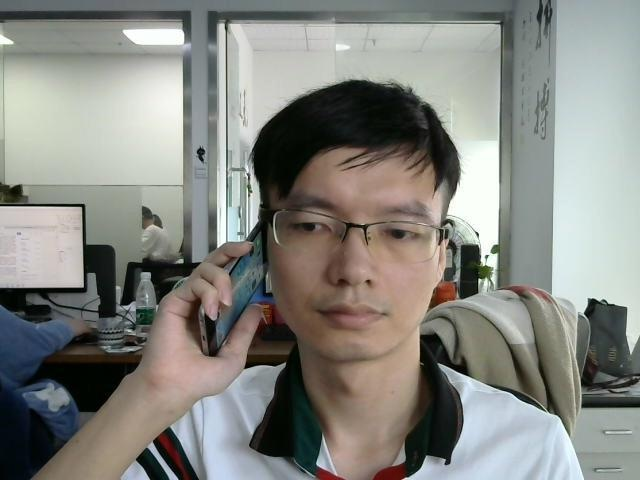hand: (159, 233, 253, 386)
